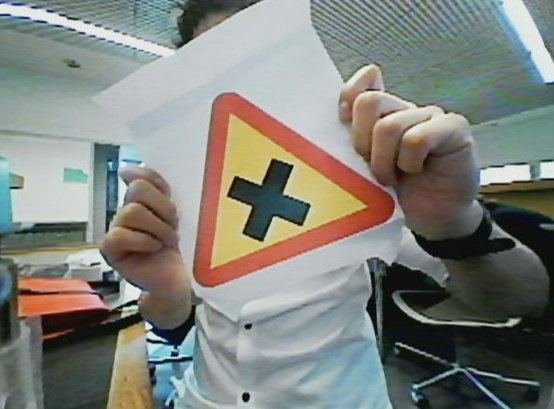junction: (185, 90, 398, 296)
